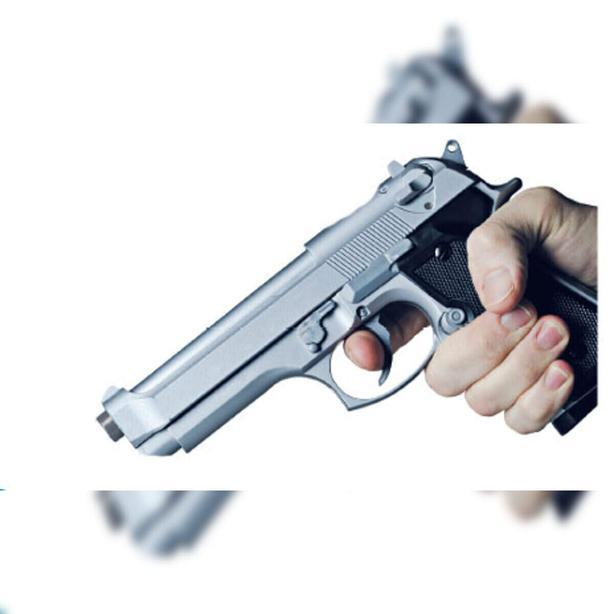Firearm: (94, 122, 599, 464)
